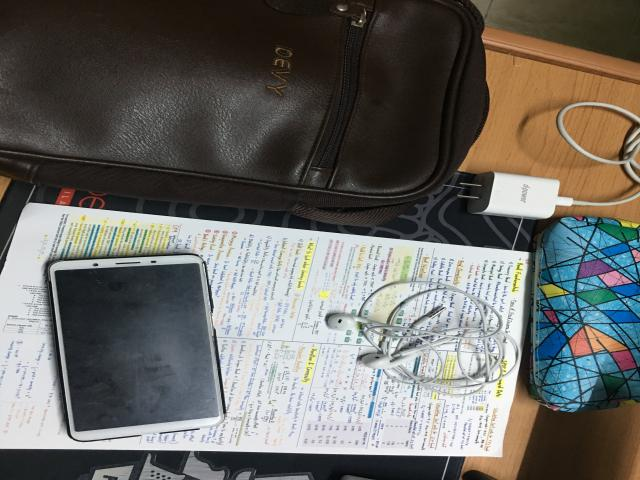Mobile phone: (47, 254, 225, 442)
paper: (0, 202, 532, 457)
wire: (327, 281, 520, 396), (458, 112, 640, 219)
